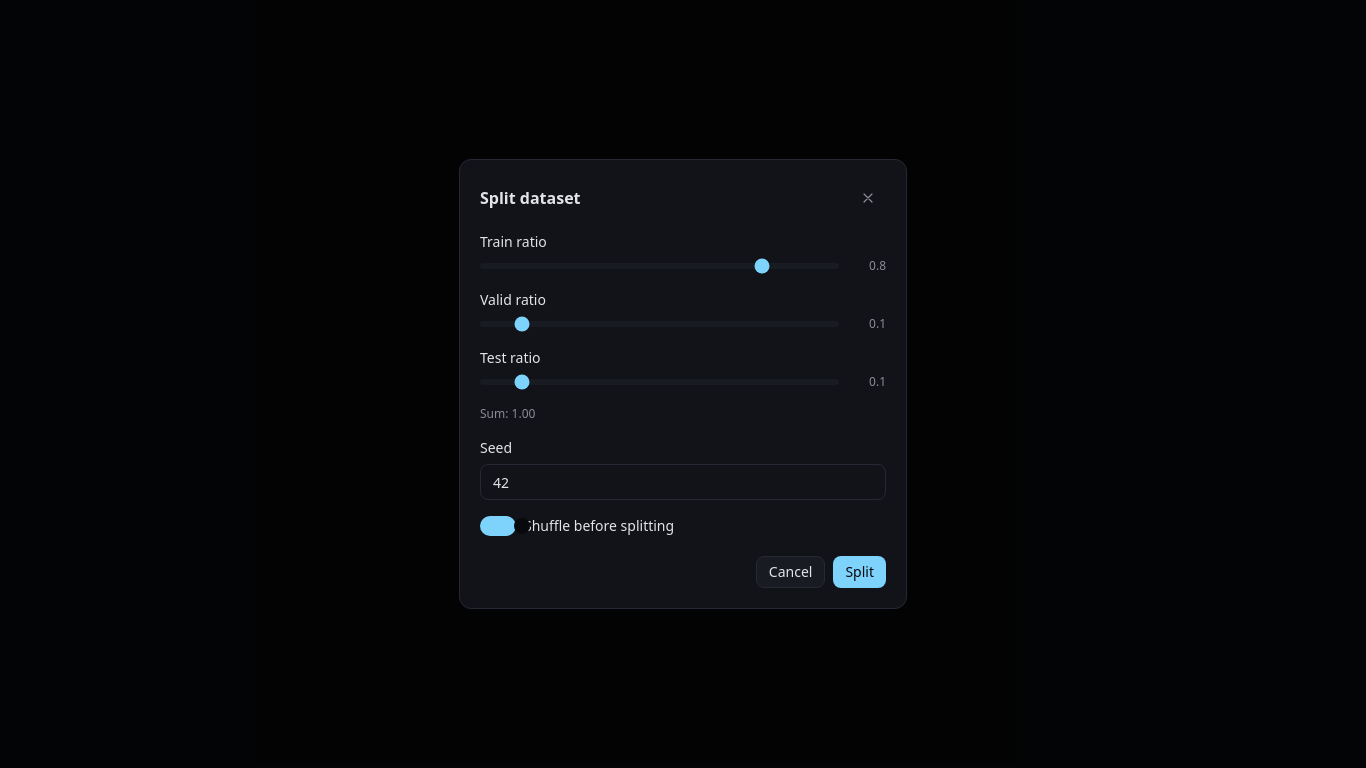
Test: SplitDialog › disables submit when the ratios do not sum to 1
Check: the button "Split" is enabled, box [833,556,886,588]
Set the slider labelled "Train ratio" to "0.5". click: (659, 266)
box: [480,263,839,269]
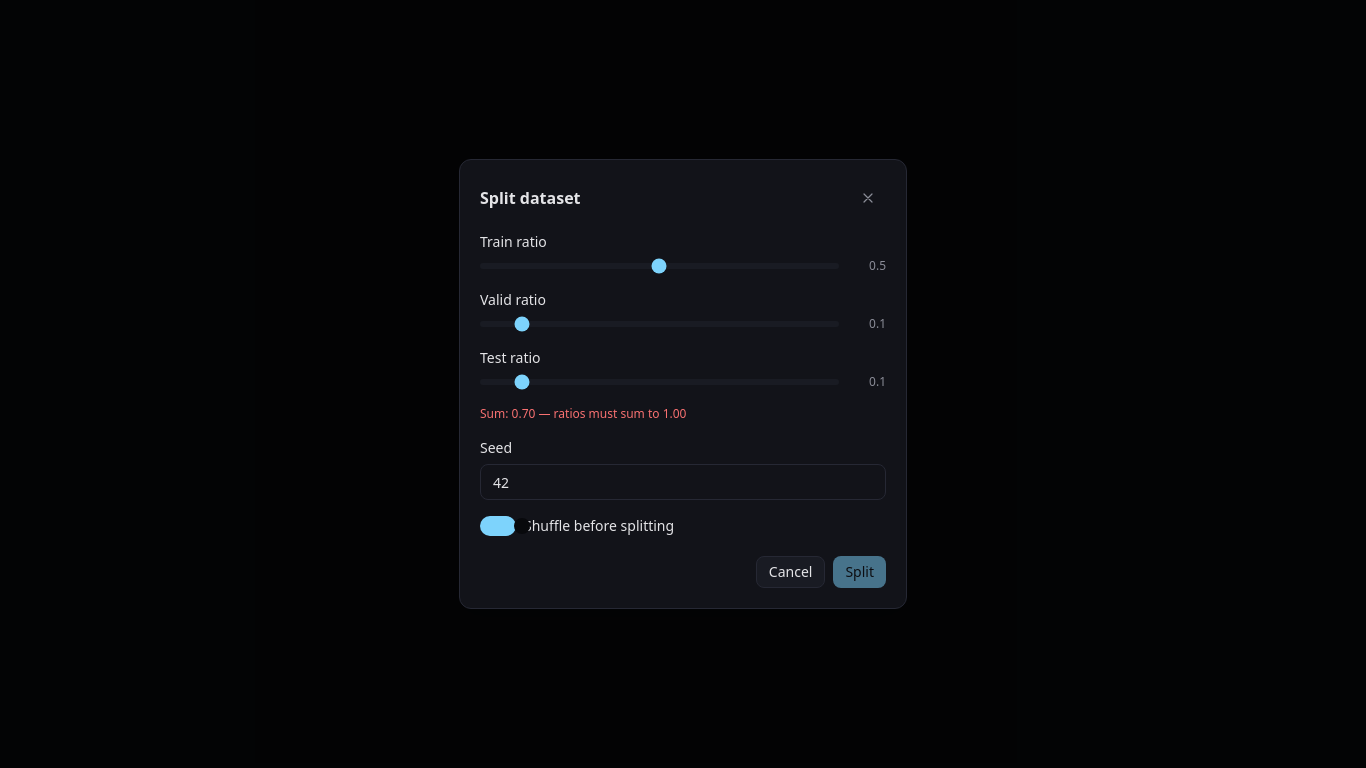
Check: the text "Sum: 0.70 — ratios must sum to 1.00" is shown, box [480,405,686,422]
Check: the button "Split" is disabled, box [833,556,886,588]
